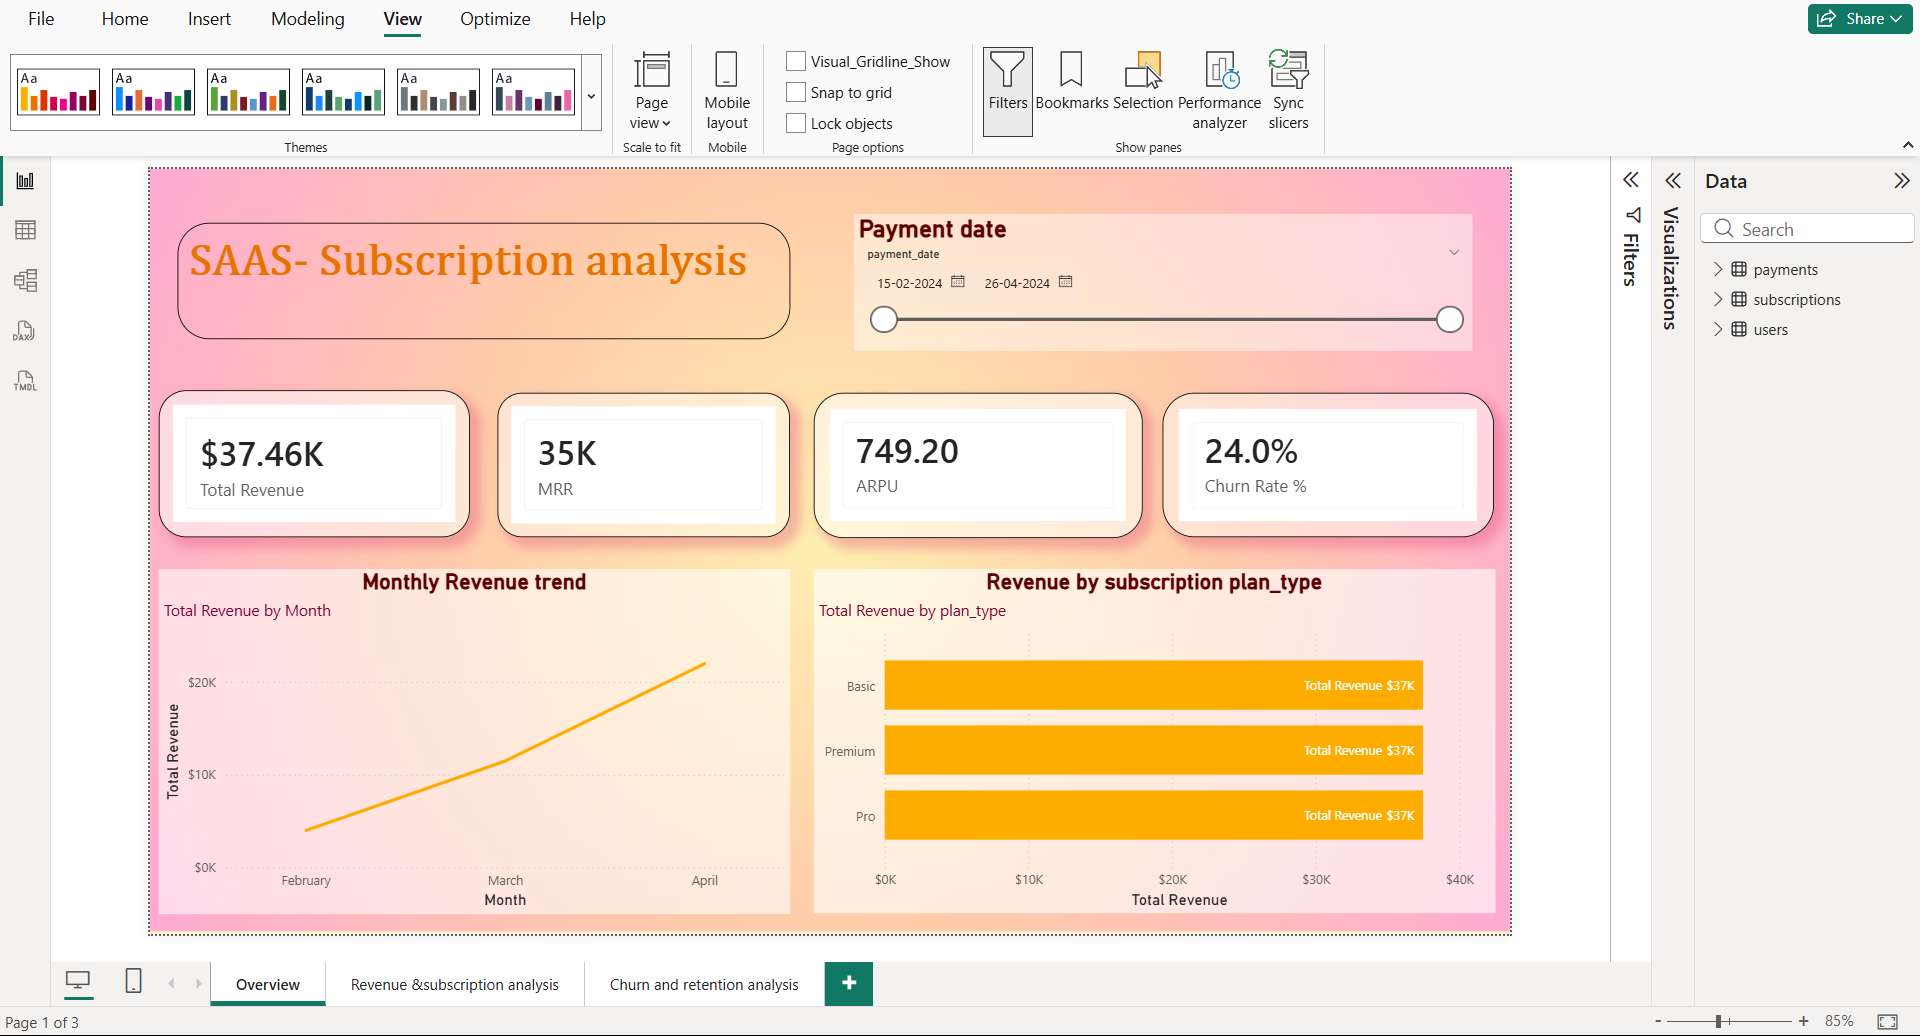

The dashboard page shown, as its layout file describes it:
{"tool":"powerbi","page":{"name":"Overview","canvas":[1280,720],"ordinal":0},"visuals":[{"type":"cardVisual","fields":{"Data":["payments.Total Revenue"]},"box":[8.1,208.1,293,138.4],"z":0},{"type":"cardVisual","fields":{"Data":["subscriptions.MRR"]},"box":[326.7,210.5,275.6,136],"z":1000},{"type":"cardVisual","fields":{"Data":["subscriptions.Churn Rate %"]},"box":[953.5,210.5,311.6,136],"z":2000},{"type":"cardVisual","fields":{"Data":["subscriptions.ARPU"]},"box":[624.4,210.1,309.8,136.9],"z":3000},{"type":"lineChart","title":"Monthly Revenue trend","fields":{"Category":["payments.payment_date.Variation.Date Hierarchy.Month"],"Y":["payments.Total Revenue"]},"box":[8.1,376.7,594.2,324.4],"z":4000},{"type":"barChart","title":"Revenue by subscription plan_type","fields":{"Category":["subscriptions.plan_type"],"Y":["payments.Total Revenue"]},"box":[624.4,377,641.2,324.2],"z":5000},{"type":"textbox","title":"SAAS- Subscription analysis","box":[25.6,51.2,576.7,109.3],"z":6000},{"type":"slicer","title":"Payment date","fields":{"Values":["payments.payment_date"]},"box":[662.8,42,582.4,128.5],"z":7000}]}

Visuals, with their boxes on the page's 1280x720 design canvas (x1, y1, x2, y2). These are canvas units, not pixel positions in the 1920x1036 screenshot, which may show the page scaled, cropped or inside an application window:
cardVisual - payments.Total Revenue: pyautogui.locateOnScreen(8, 208, 301, 346)
cardVisual - subscriptions.MRR: pyautogui.locateOnScreen(327, 210, 602, 346)
cardVisual - subscriptions.Churn Rate %: pyautogui.locateOnScreen(954, 210, 1265, 346)
cardVisual - subscriptions.ARPU: pyautogui.locateOnScreen(624, 210, 934, 347)
"Monthly Revenue trend" lineChart: pyautogui.locateOnScreen(8, 377, 602, 701)
"Revenue by subscription plan_type" barChart: pyautogui.locateOnScreen(624, 377, 1266, 701)
"SAAS- Subscription analysis" textbox: pyautogui.locateOnScreen(26, 51, 602, 160)
"Payment date" slicer: pyautogui.locateOnScreen(663, 42, 1245, 170)
